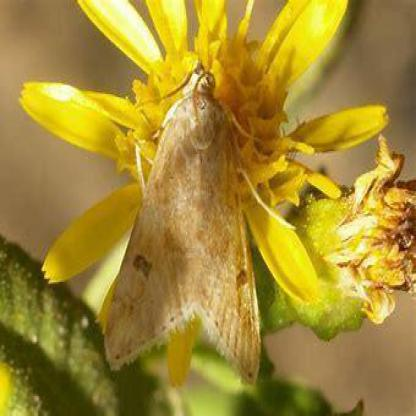Hellula undalis: (97, 48, 264, 394)
